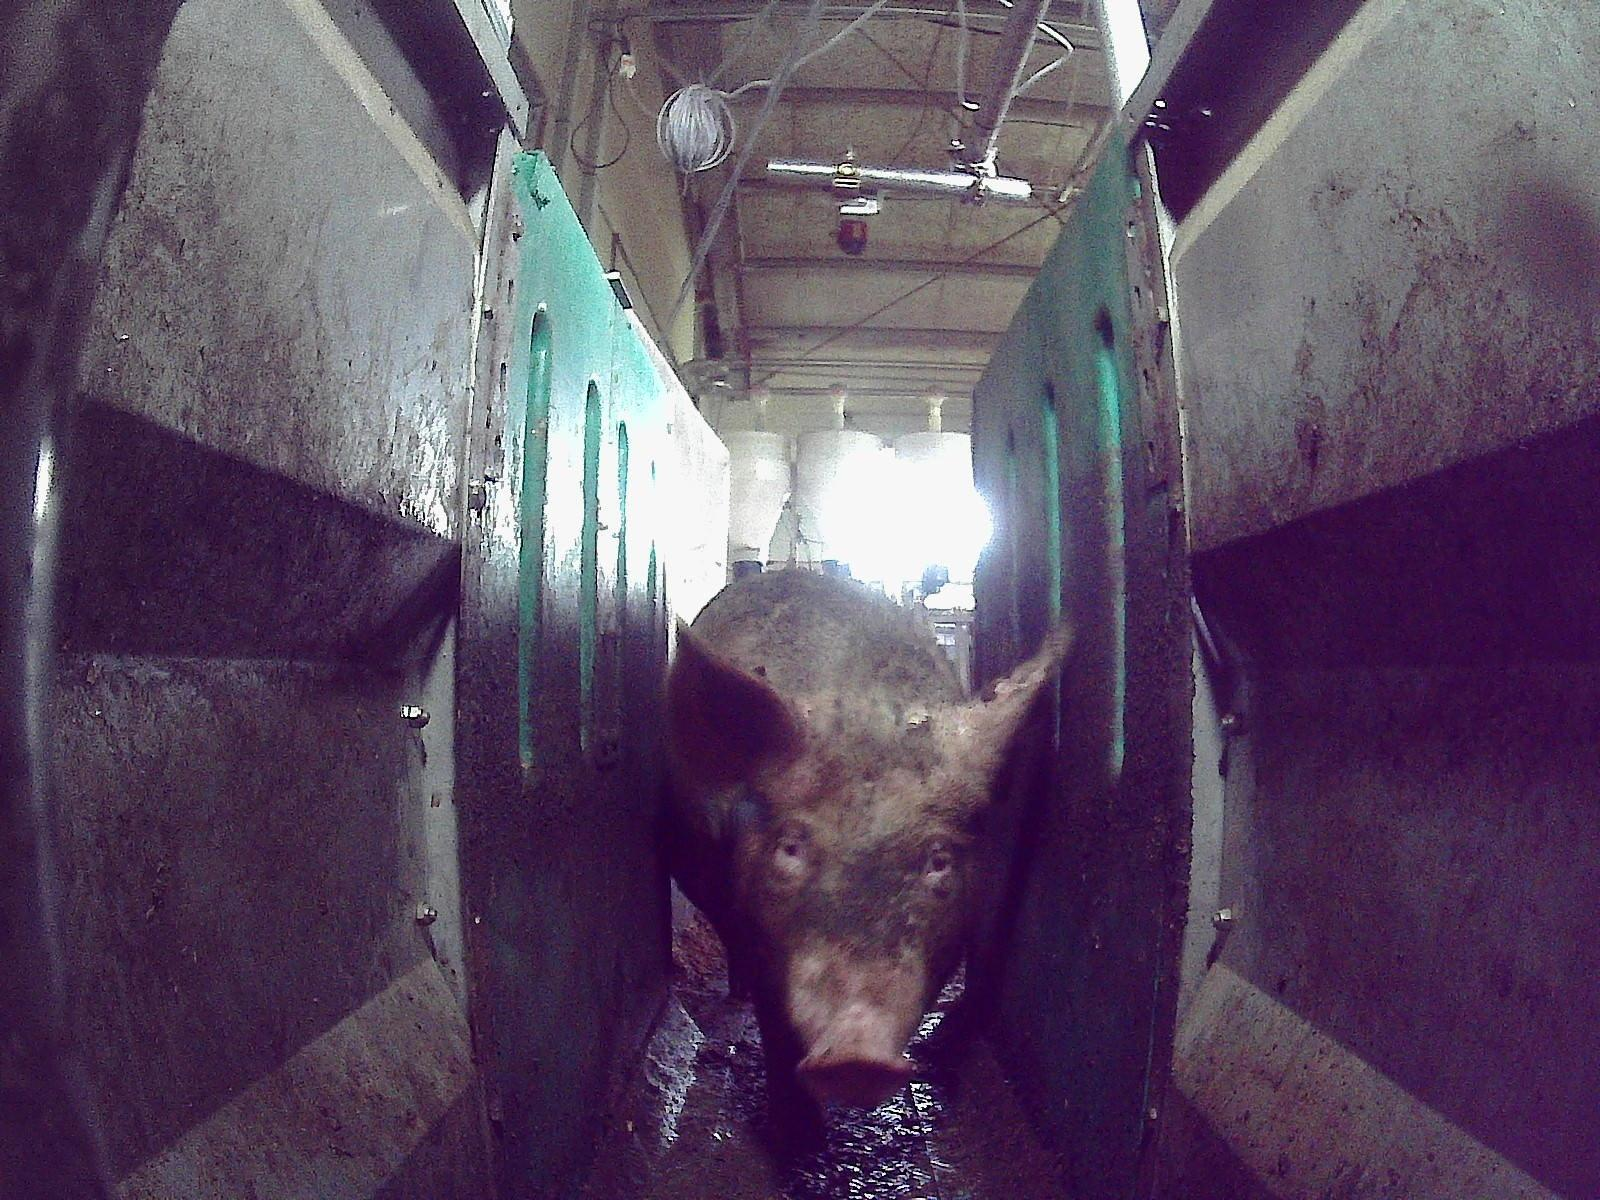Face: (744, 735, 964, 1109)
